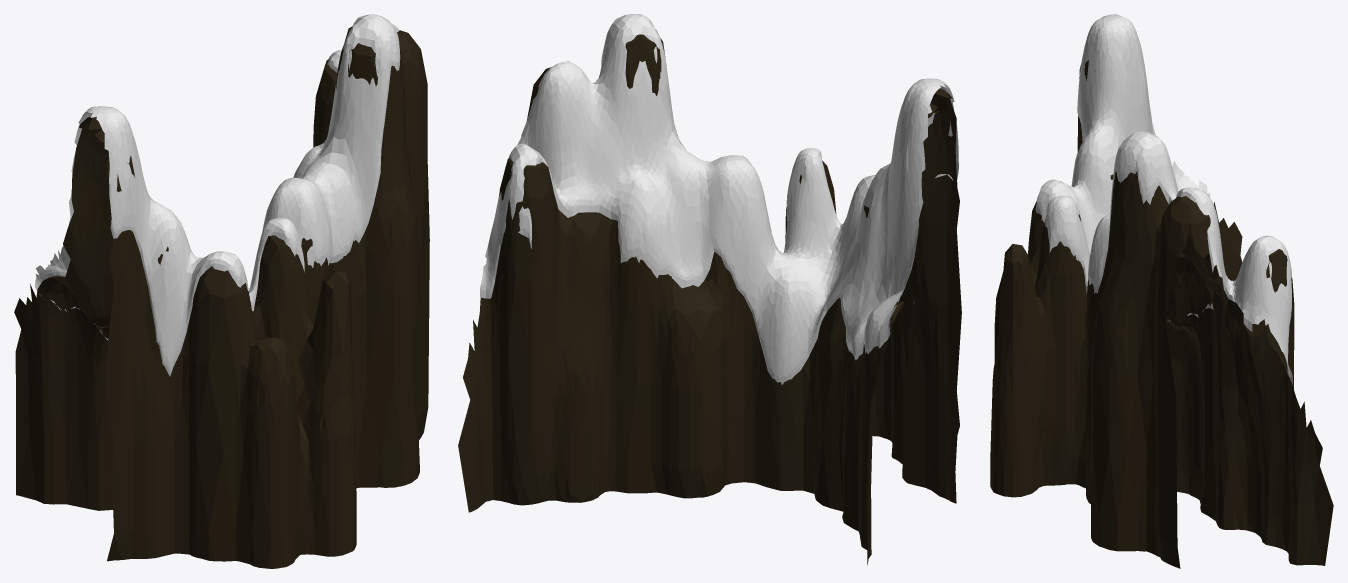
File: Mtn_Corner_NW.fbx
3 views of the same model, side by side, from view 1: azimuth 30°, elevation 25°; view 2: azimuth 150°, elevation 25°; view 3: azimuth 270°, elevation 25° (orthographic). The views are drawn at different scales.
Parts seen in each view (by area): view 1: Mtn_Corner_NW; view 2: Mtn_Corner_NW; view 3: Mtn_Corner_NW.
Boxes of the visible parts, x1=… form: Mtn_Corner_NW: x1=14, y1=14, x2=429, y2=568; Mtn_Corner_NW: x1=458, y1=14, x2=961, y2=564; Mtn_Corner_NW: x1=990, y1=14, x2=1333, y2=568.
Size of the model in its own units: 15979 by 18038 by 13924.
